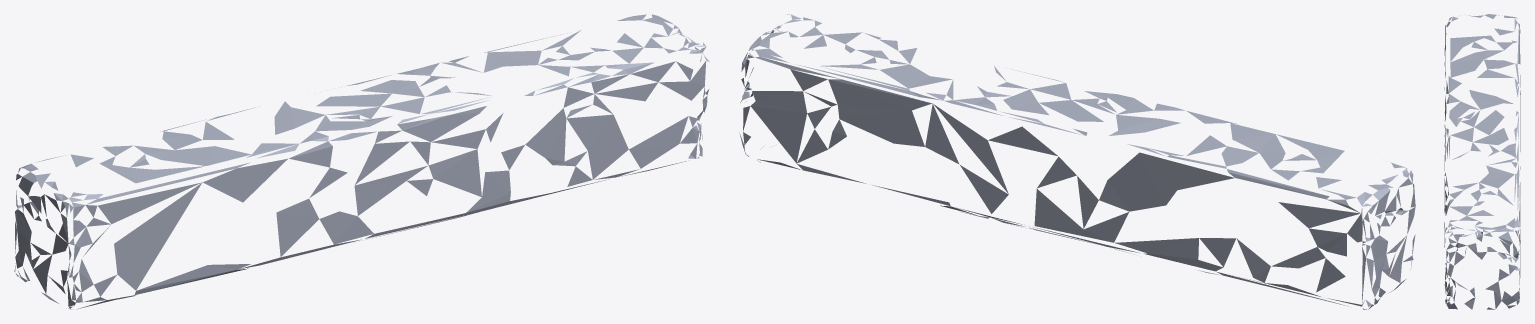
The model's file is stationary_pastel_yellow_a01.glb.
The picture shows the model from 3 angles, left to right: view 1: azimuth 30°, elevation 25°; view 2: azimuth 150°, elevation 25°; view 3: azimuth 270°, elevation 25°; orthographic projection. The views are drawn at different scales.
Visible parts, largest first — view 1: geometry_0; view 2: geometry_0; view 3: geometry_0.
Part boxes in pixels (bbox=[...]): geometry_0: bbox=[14, 14, 709, 309]; geometry_0: bbox=[739, 14, 1415, 309]; geometry_0: bbox=[1444, 14, 1520, 309].
Bounding box in the file's own units: 0.48 × 0.0816 × 0.0702.
